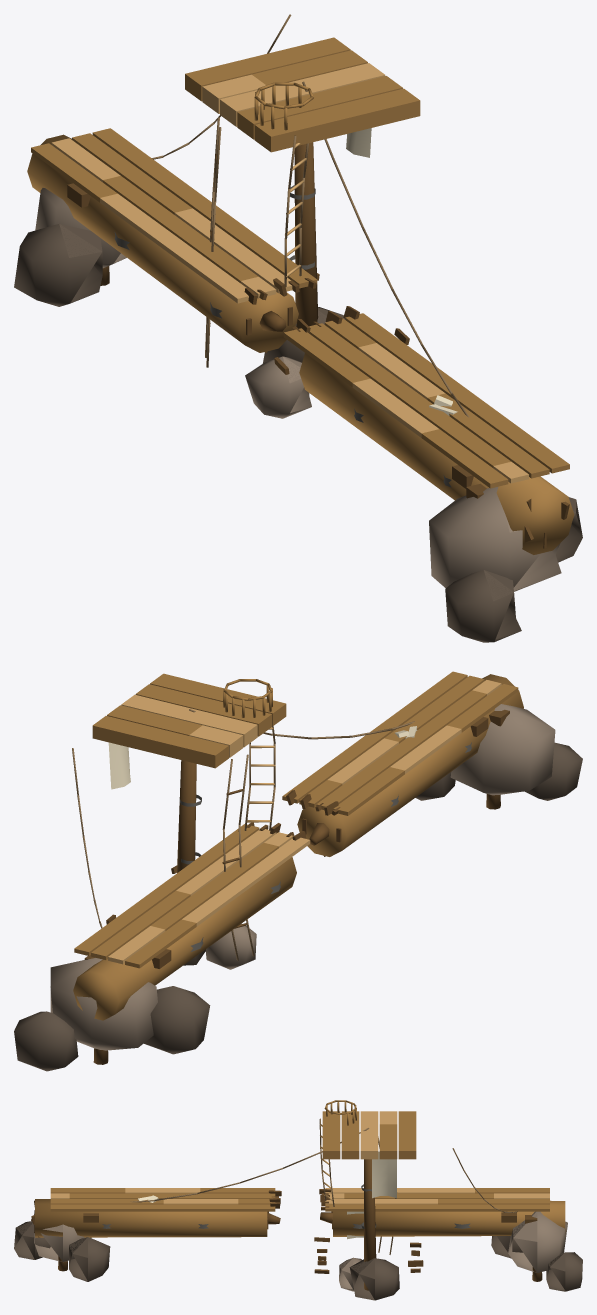
Rendered from MastBridge.fbx.
The picture shows the model from 3 angles, top to bottom: view 1: azimuth 30°, elevation 25°; view 2: azimuth 150°, elevation 25°; view 3: azimuth 270°, elevation 25°; orthographic projection. The views are drawn at different scales.
Visible parts, largest first — view 1: MastBridge; view 2: MastBridge; view 3: MastBridge.
Part boxes in pixels (box(x1,y1,x2,y2)): MastBridge: box(14, 14, 582, 642); MastBridge: box(14, 671, 582, 1071); MastBridge: box(14, 1100, 582, 1300).
Size of the model in its own units: 474 by 644 by 1824.
